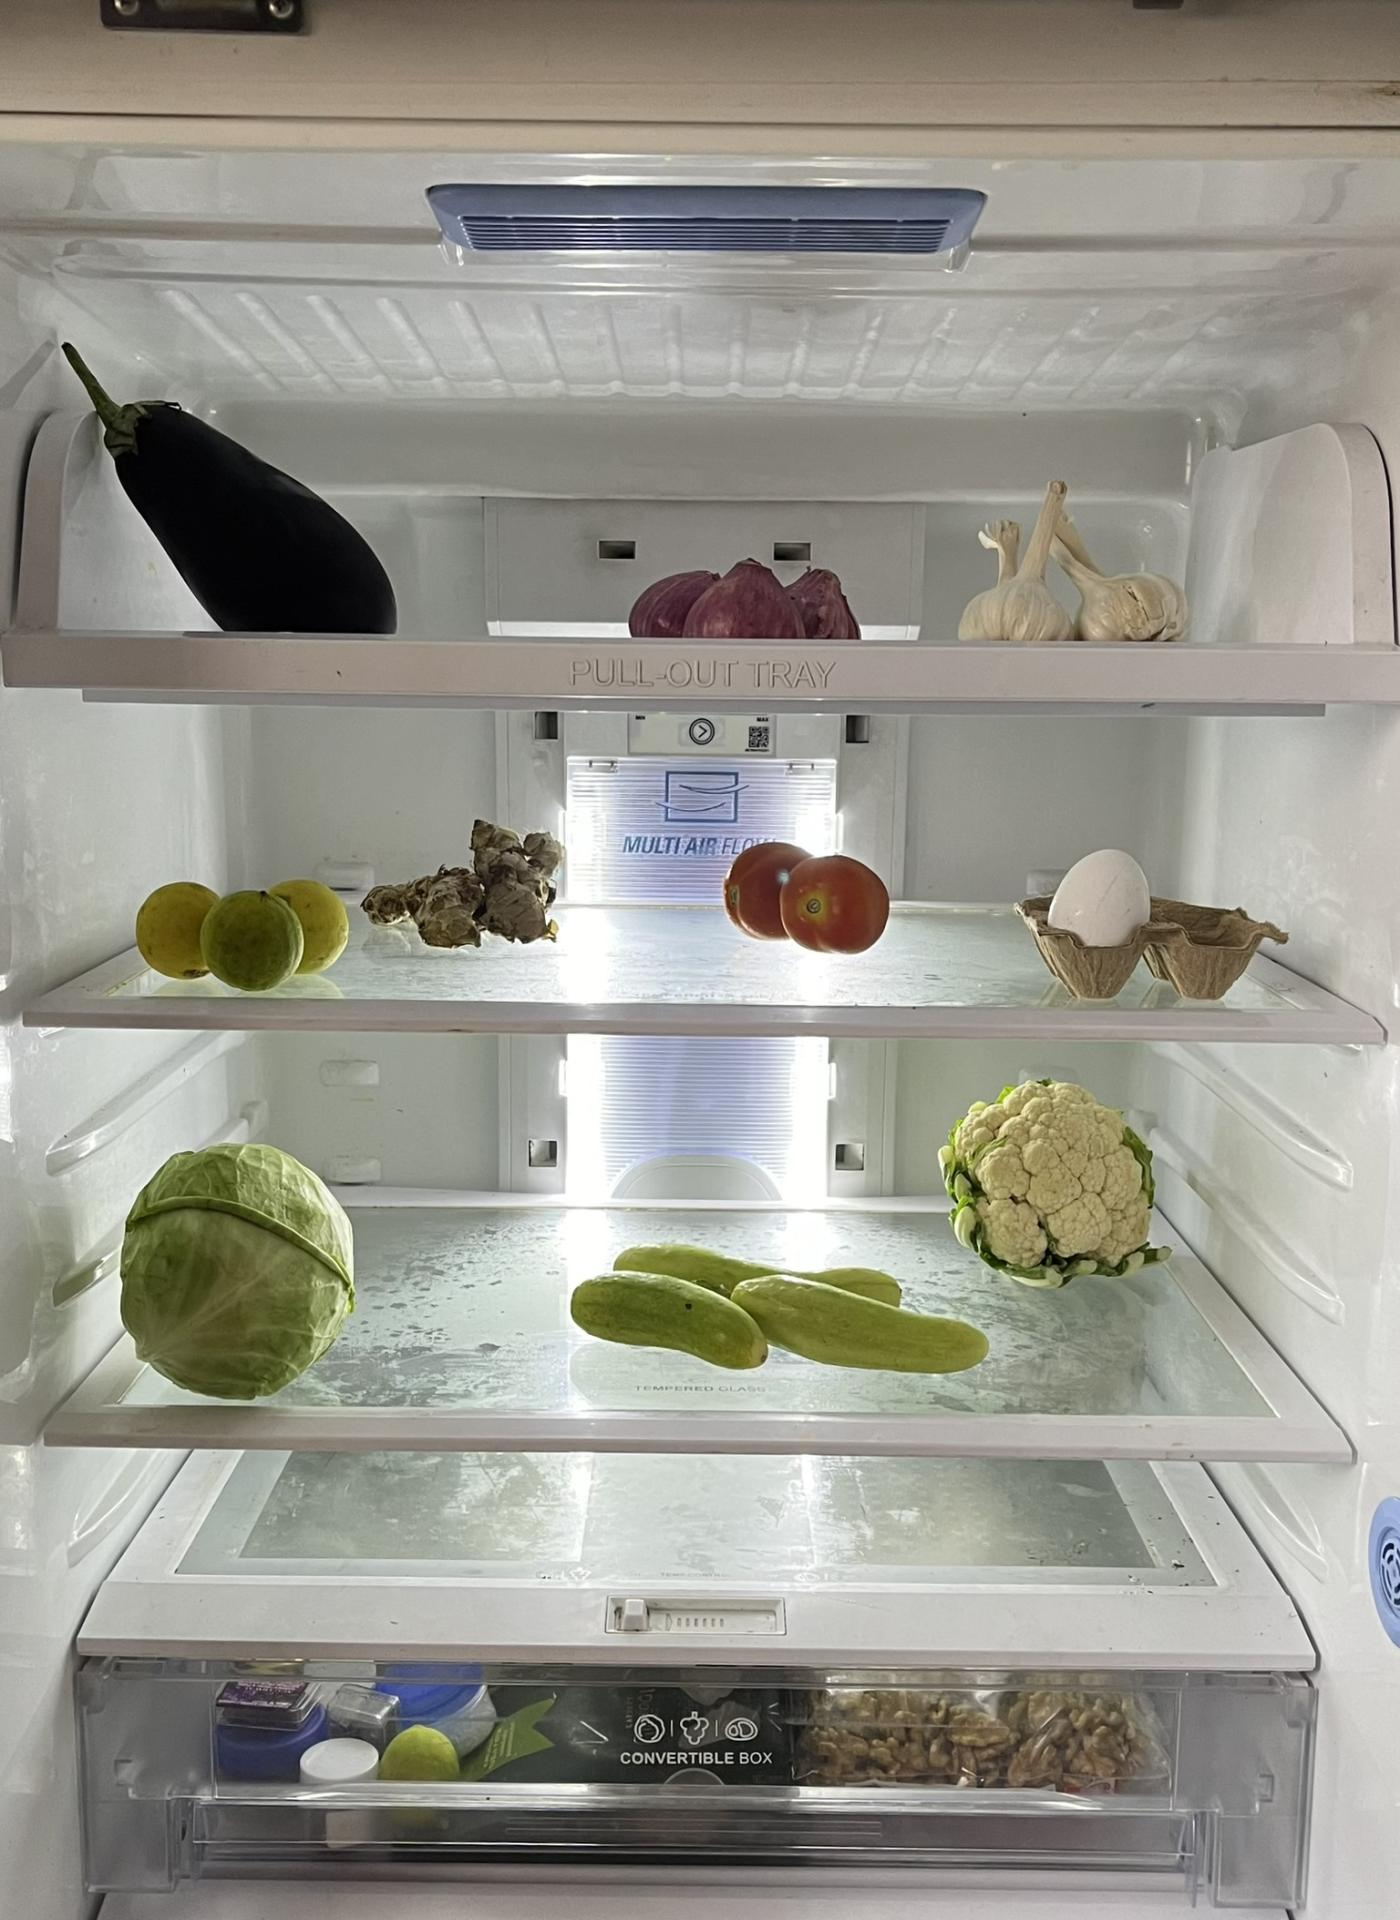cabbage: (130, 1136, 359, 1394)
cauliflower: (945, 1076, 1173, 1283)
cucumber: (567, 1239, 1000, 1380)
egg: (1054, 848, 1155, 999)
garlic: (950, 471, 1176, 637)
ginger: (356, 808, 558, 953)
lemon: (130, 882, 344, 981)
onion: (635, 550, 863, 637)
tomato: (722, 836, 887, 959)
